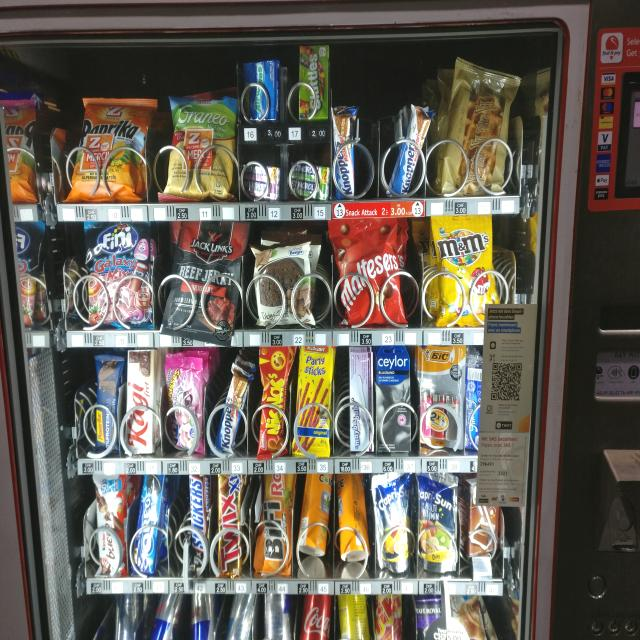airwaves_menthoneucalyptus_riegel_14_1_50173167: (245, 58, 278, 124)
bifi_roll__50__4251097402635: (258, 469, 295, 575)
bueno___43__4008400320328: (91, 475, 128, 573)
c-swiss_dosenabisicetea__33__9120025930135: (297, 468, 332, 559), (336, 469, 370, 561)
caprisun_multivitamin__20__4000177605004: (372, 468, 417, 572), (416, 469, 458, 569)
comella_schokodrink__33__7613100037253: (464, 474, 506, 562)
fini_galaxymix_packung_100_1_8410525150364: (81, 219, 153, 328)
fini_jellykisses_packung_80_1_8410525116704: (164, 354, 204, 456)
jacklinks_beefjerkyorginal__25__4047751730219: (164, 221, 241, 331)
jlbrichard_gauffre__90__5410495002000: (442, 63, 513, 195)
kagi___50__7610046000259: (123, 346, 153, 455)
knoppers_riegel____4035800488808: (209, 360, 253, 455), (389, 105, 430, 197), (328, 105, 359, 202)
lorenz_nicnacs__40__4018077798818: (258, 344, 292, 456)
malburner_partysticks__40__7610200279682: (293, 342, 333, 456)
maltesers___100__5000159023061: (331, 218, 410, 325)
mnms_gelb__45__40111445: (431, 214, 503, 328)
oreo___66__84100733: (132, 470, 168, 573)
powerbar_proteinplusschoko__55__4029679520028: (91, 352, 122, 453)
skittles_sour_riegel_51_1_0000000000004: (296, 41, 329, 120)
snickers___50__5000159461122: (185, 473, 210, 572)
stimorol_spearmint_riegel_14_1_0000000000005: (289, 160, 331, 198)
stimorol_wildcherry_riegel_14_1_57060330: (243, 159, 282, 202)
twix___50__5000159459228: (214, 470, 244, 577)
zweifel_graneochilli__100__7610095184009: (163, 90, 235, 202)
zweifel_paprika__90__7610095013002: (69, 93, 156, 204)
